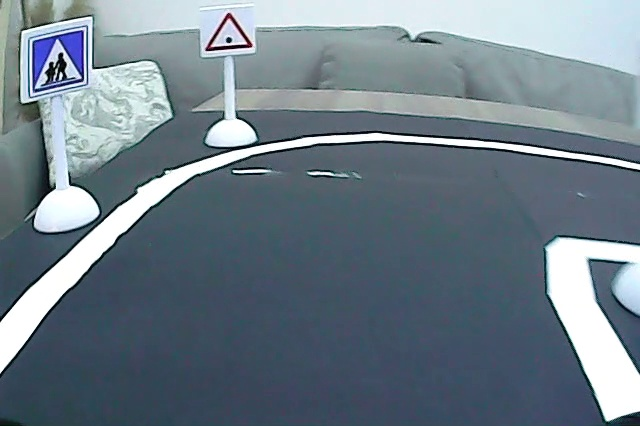green light: (201, 10, 256, 54)
school crossing: (26, 28, 90, 96)
